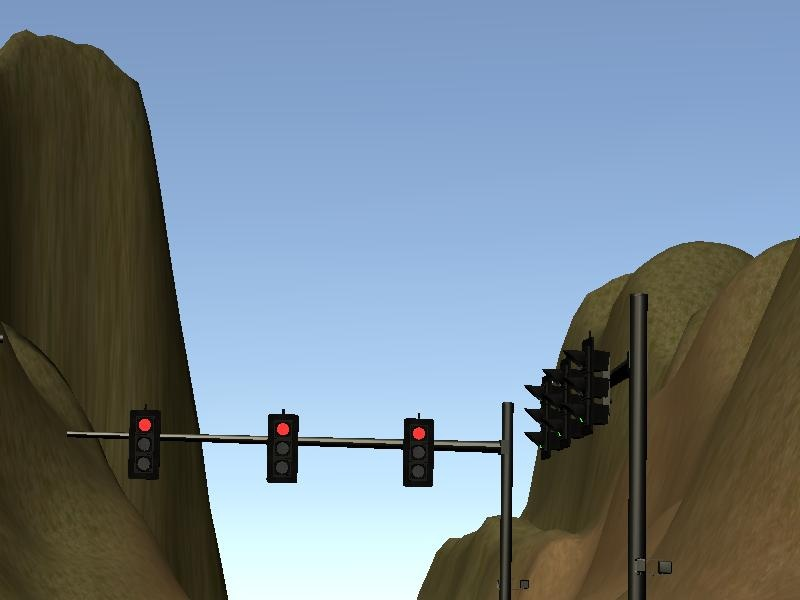RED: (264, 412, 299, 482), (129, 411, 161, 479), (402, 418, 433, 488)
